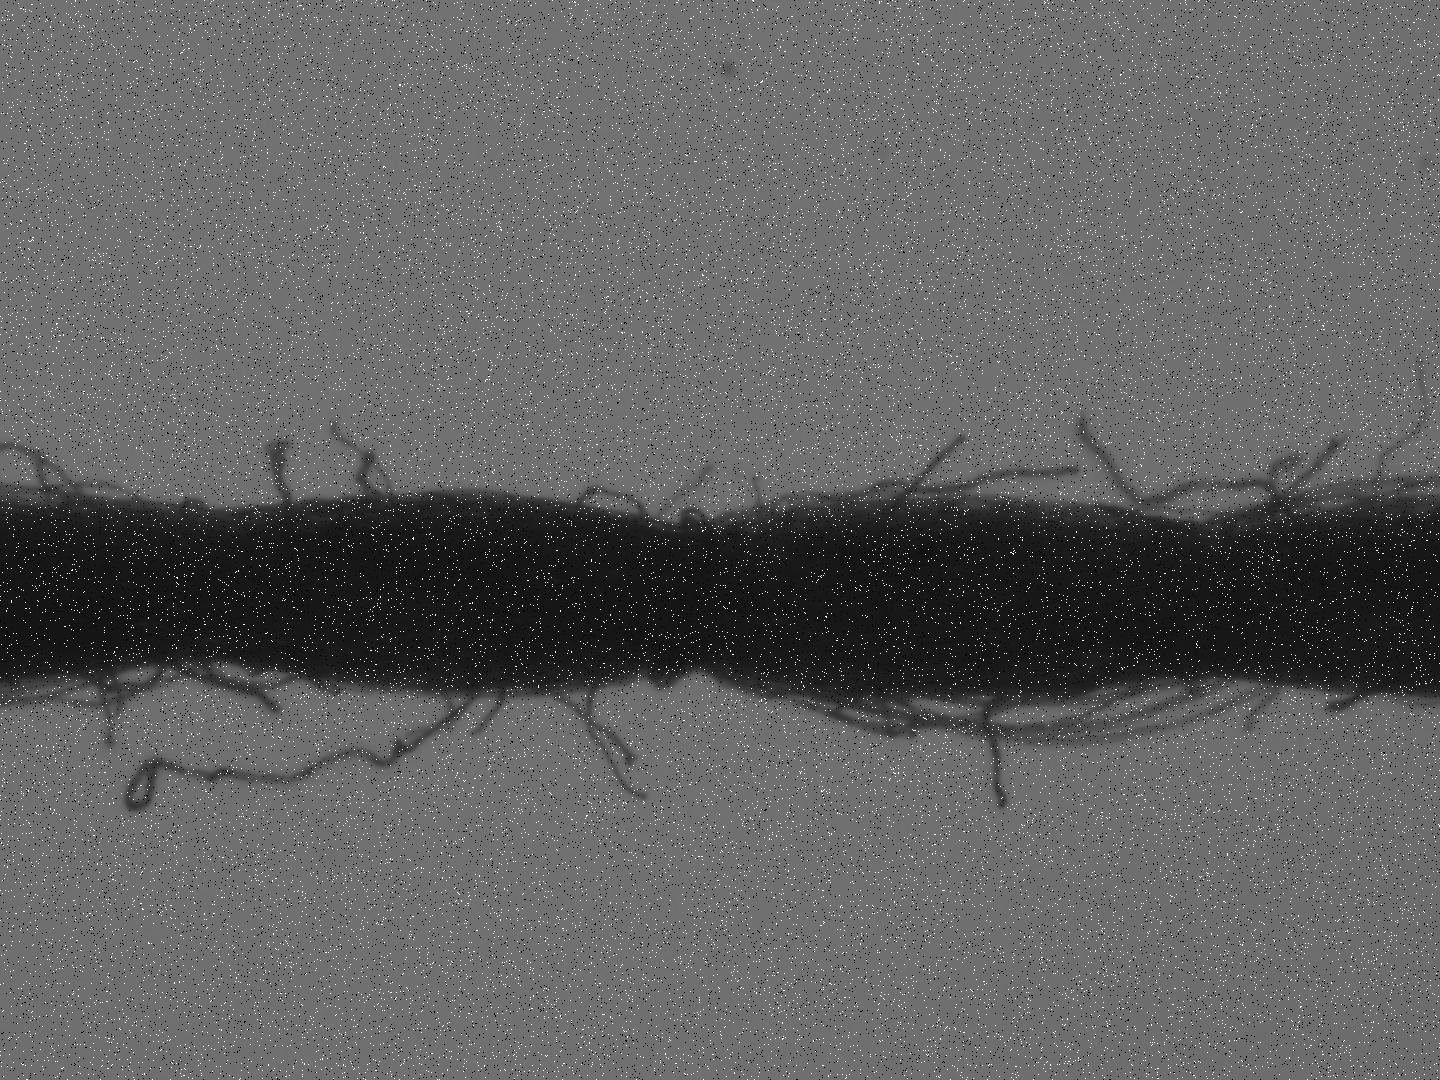loop_fiber: (893, 676, 1276, 749), (773, 692, 1027, 743), (1200, 490, 1371, 533), (163, 656, 310, 692), (17, 476, 152, 506), (731, 493, 819, 537), (568, 482, 649, 521), (74, 661, 166, 694), (674, 505, 715, 535), (645, 668, 689, 693)
protruding_fiber: (876, 430, 969, 517), (545, 690, 637, 769)
